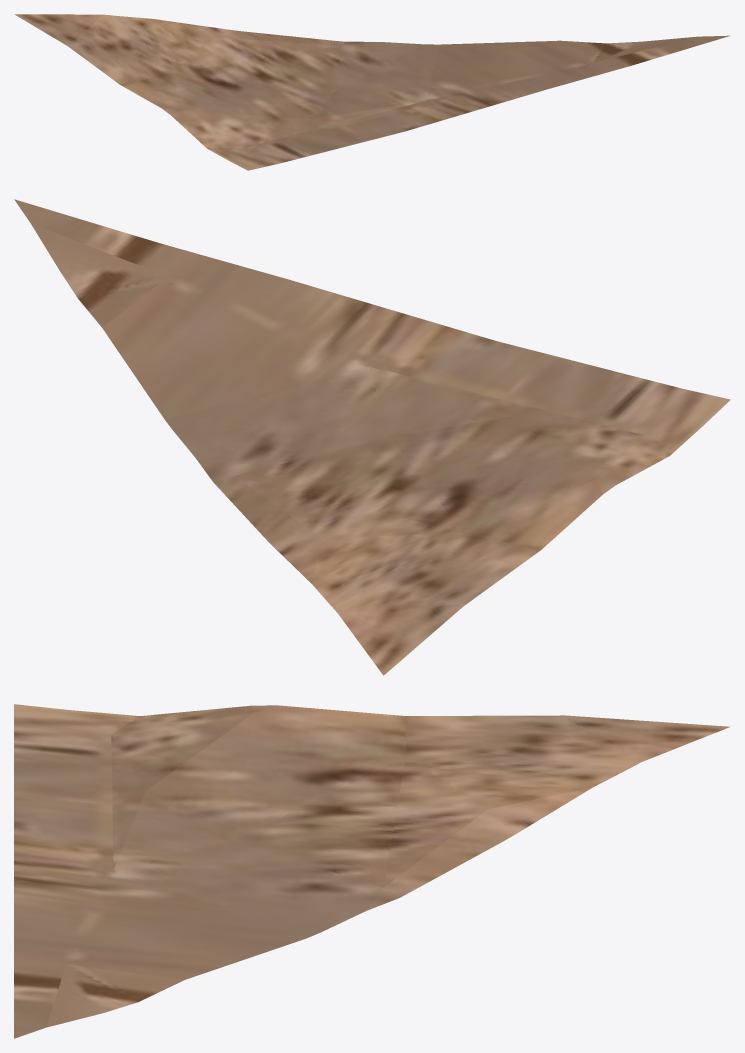
3 views of the same model, one above another, from view 1: azimuth 30°, elevation 25°; view 2: azimuth 150°, elevation 25°; view 3: azimuth 270°, elevation 25° (orthographic). The views are drawn at different scales.
Size of the model in its own units: 0.724 by 0.0499 by 0.6075.
Materials: 1 (1 with a texture image).
